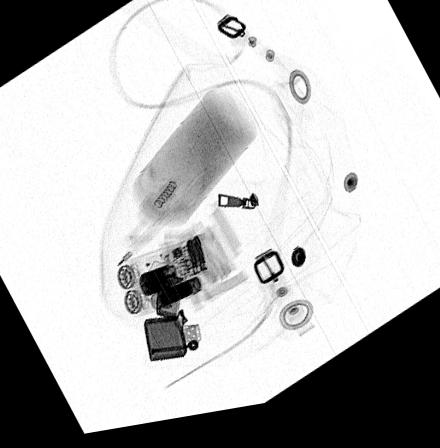Lighter: (142, 278, 202, 368)
